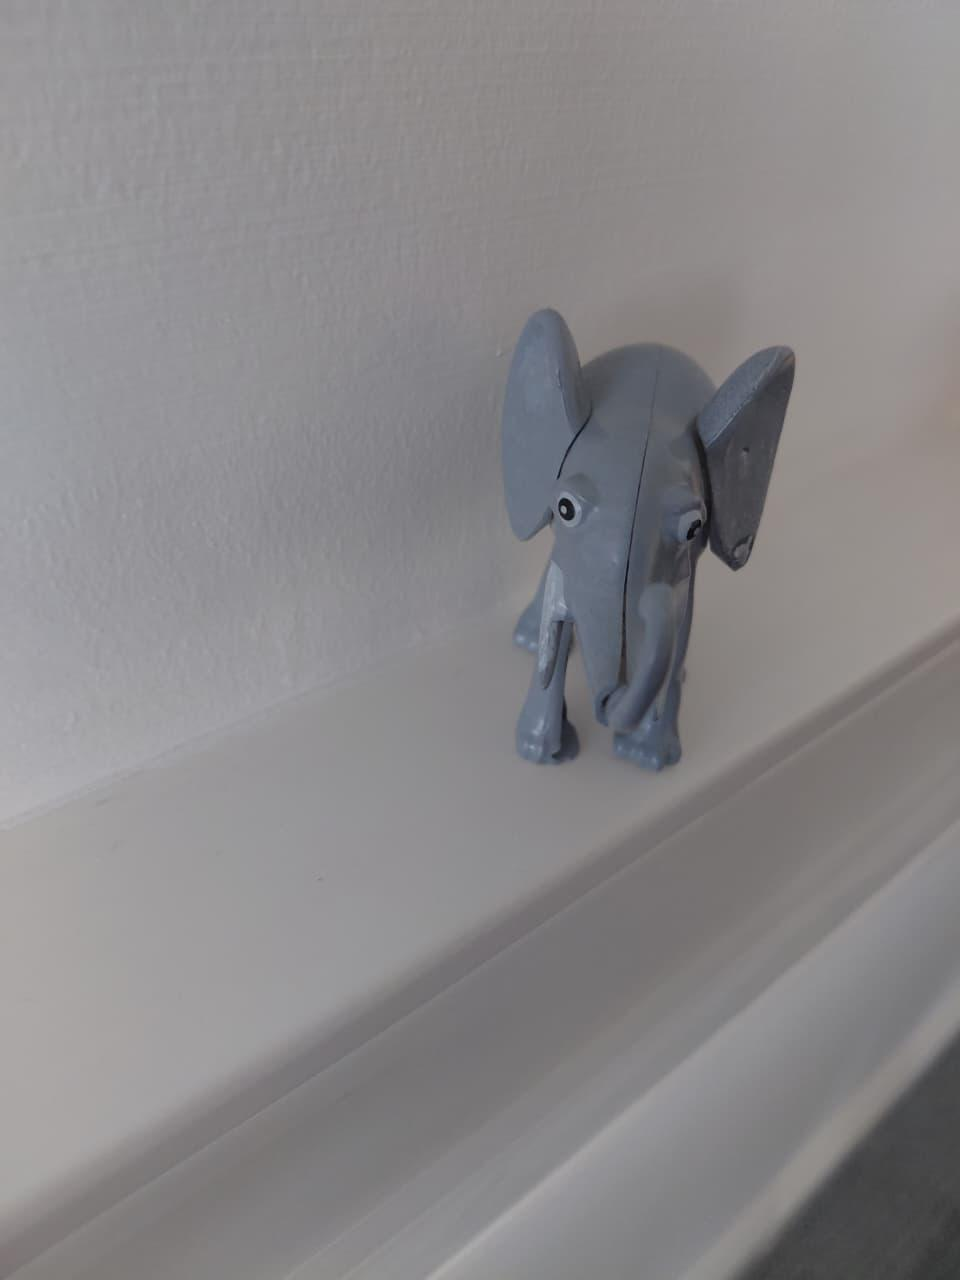elephant: (475, 288, 834, 826)
